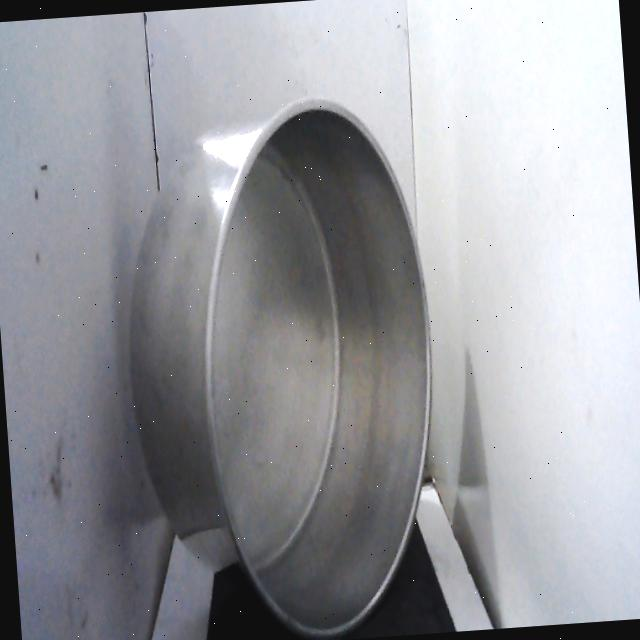metal: (104, 82, 455, 640)
